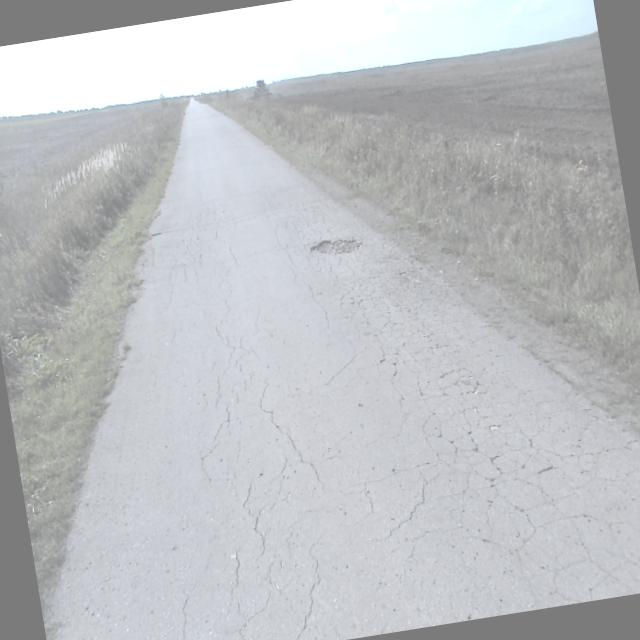road: (45, 98, 640, 640)
